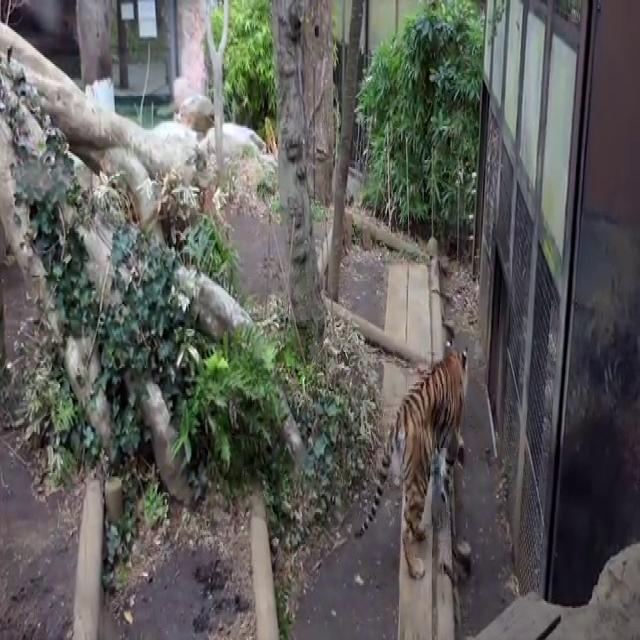tiger: (357, 336, 469, 582)
